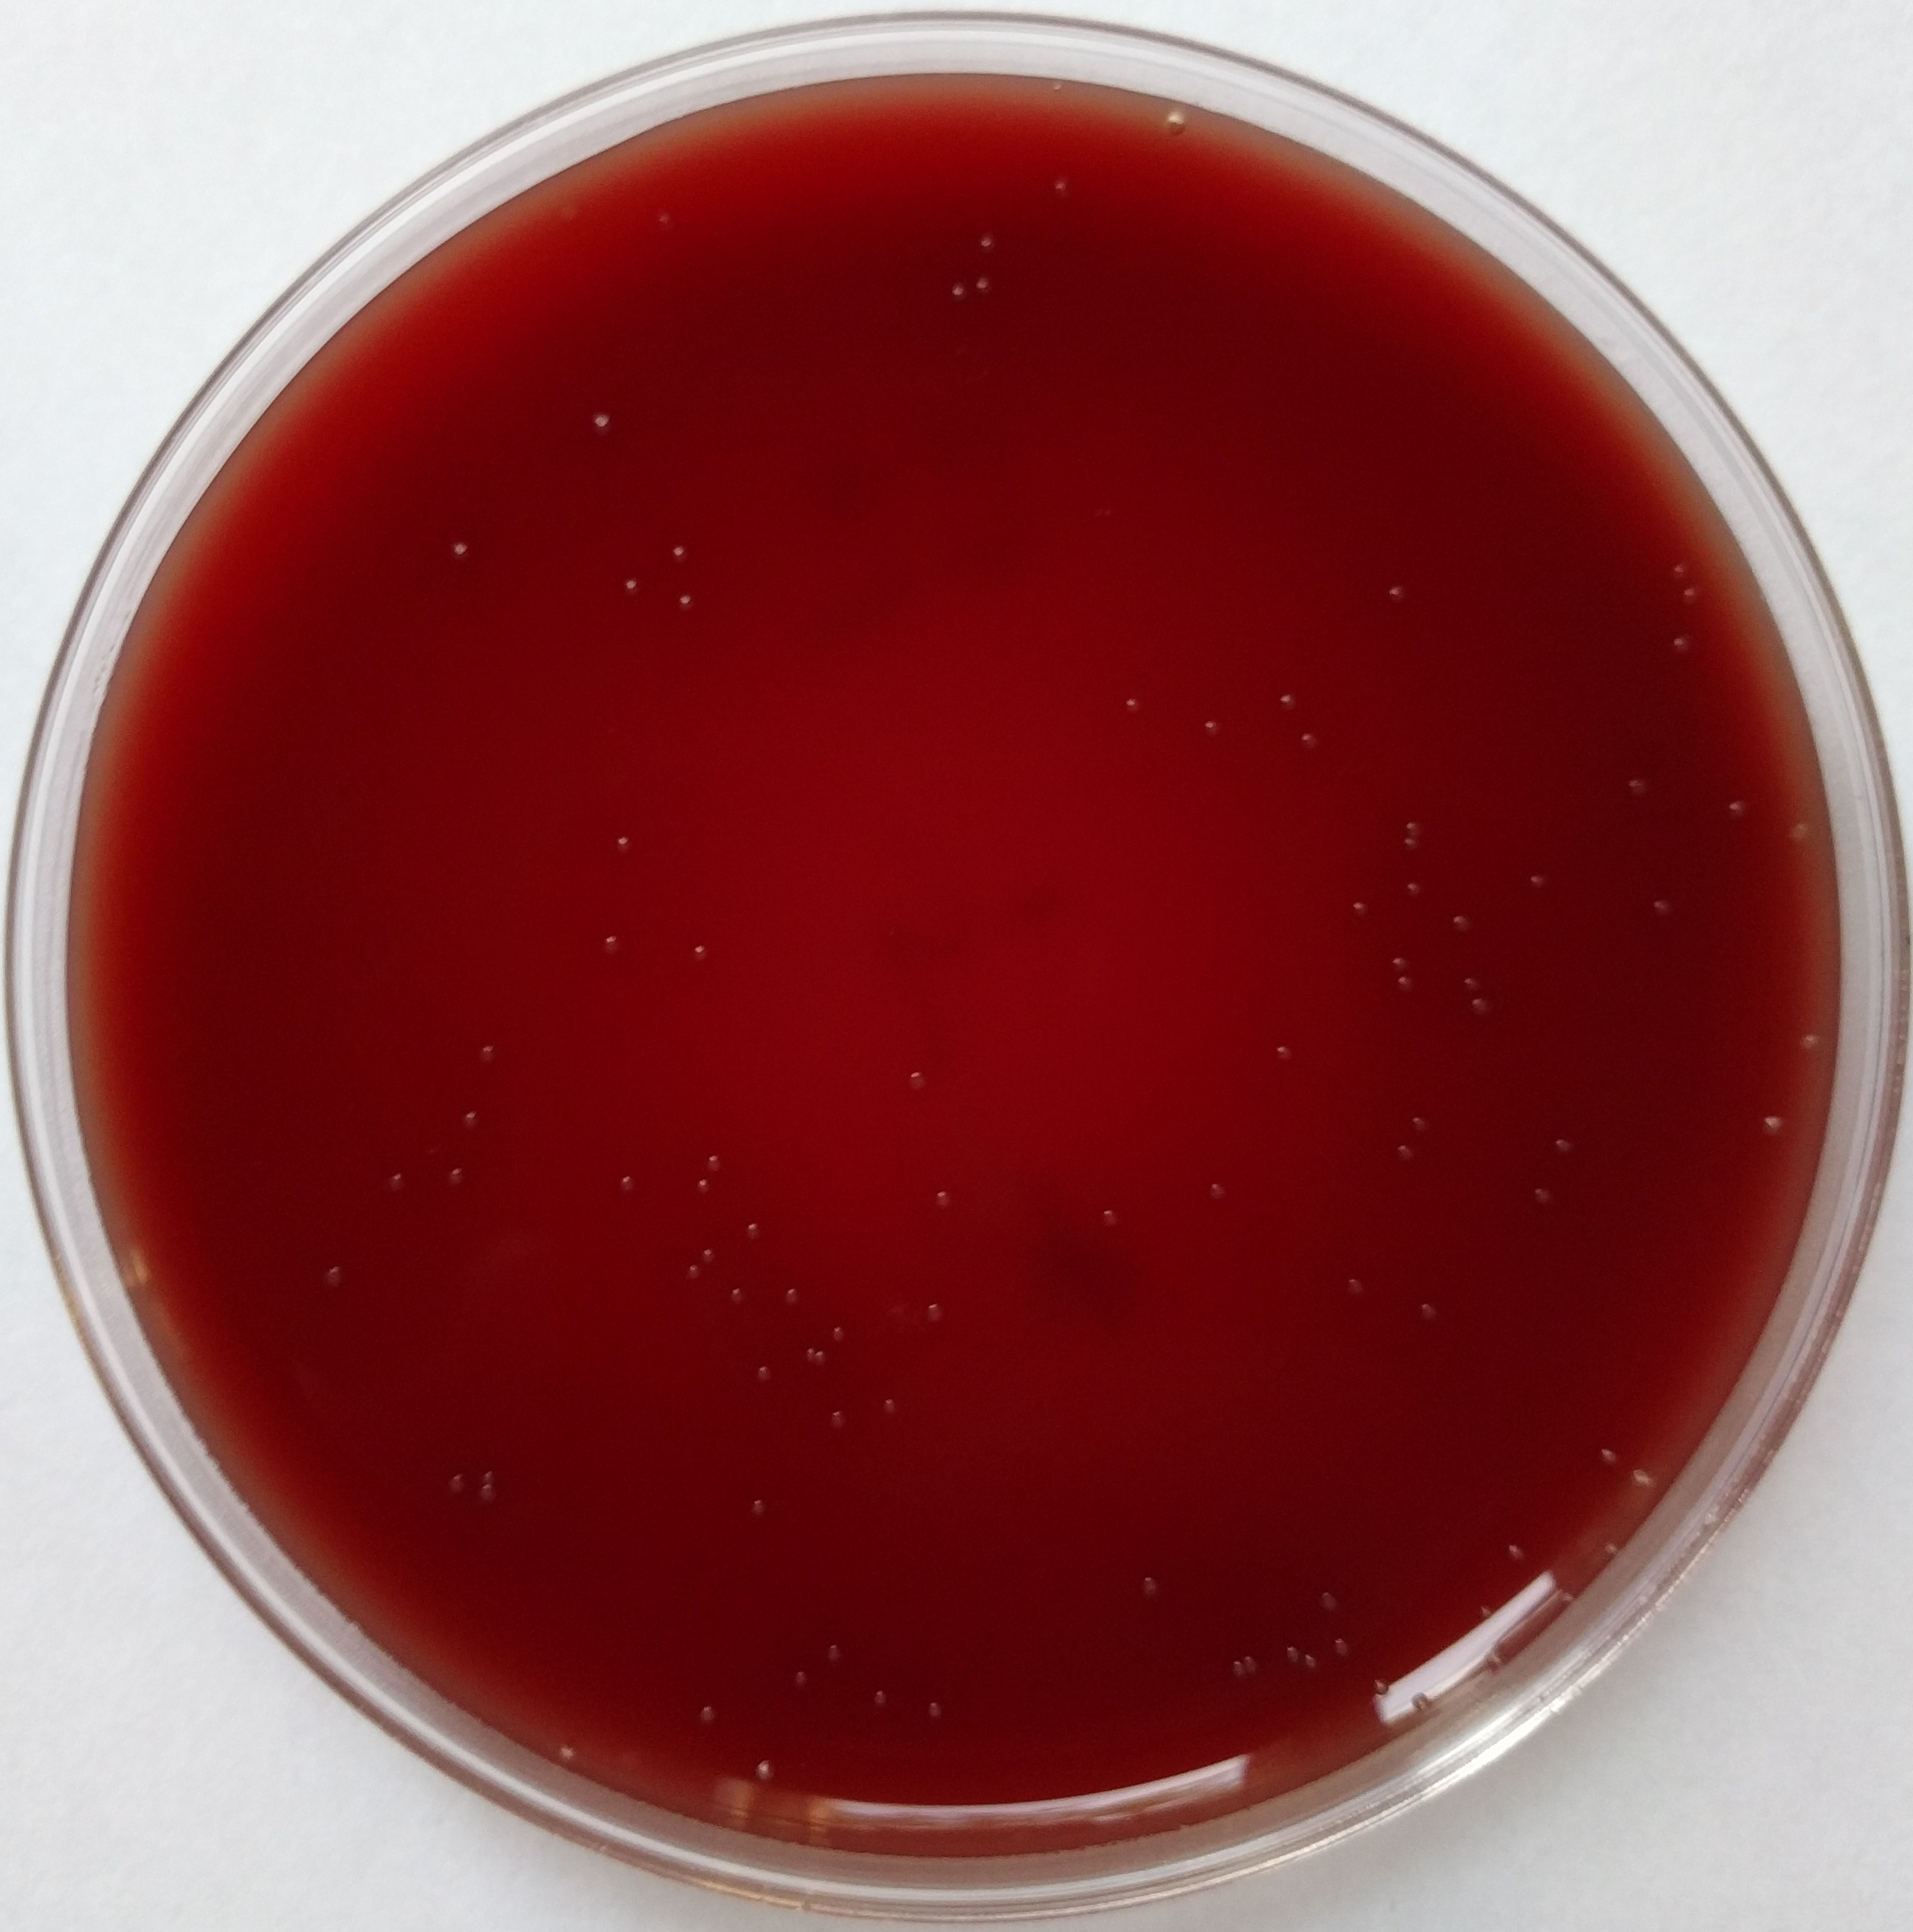sp07: (1664, 622, 1705, 657), (964, 221, 1000, 257), (1361, 1675, 1403, 1706), (604, 823, 643, 857), (1128, 1569, 1167, 1601), (1046, 166, 1081, 200), (443, 531, 478, 564), (1116, 685, 1149, 720), (585, 403, 620, 436), (899, 1063, 937, 1093), (1657, 555, 1698, 583), (785, 1338, 815, 1375), (1204, 1175, 1237, 1207), (317, 1258, 349, 1291), (664, 531, 699, 561), (816, 1634, 851, 1664), (1093, 1200, 1125, 1231), (443, 1468, 476, 1498), (1197, 708, 1228, 737), (1382, 575, 1412, 606), (469, 1033, 501, 1063), (683, 935, 715, 965), (946, 271, 978, 301), (964, 263, 995, 293), (1400, 807, 1429, 839), (476, 1487, 510, 1515), (1226, 1645, 1256, 1675), (594, 928, 625, 956), (1160, 107, 1191, 135), (920, 1696, 951, 1724), (648, 205, 676, 235), (1393, 836, 1422, 864), (1475, 1599, 1507, 1625), (745, 1492, 778, 1517), (555, 1732, 583, 1760), (927, 1181, 956, 1207), (1268, 1037, 1298, 1063), (615, 571, 641, 601), (1755, 1107, 1785, 1133), (1274, 1636, 1300, 1666), (1440, 911, 1472, 935), (1505, 1534, 1531, 1562), (748, 1356, 778, 1380), (692, 1699, 722, 1724), (1391, 876, 1421, 900), (1342, 1268, 1368, 1294), (1790, 1025, 1818, 1049), (1599, 1438, 1624, 1466), (874, 1389, 902, 1414), (615, 1167, 639, 1195), (1274, 687, 1302, 711), (783, 1280, 811, 1305), (1316, 1585, 1340, 1613), (1300, 1650, 1328, 1675), (673, 587, 697, 615), (1624, 771, 1654, 793), (1782, 813, 1811, 836), (701, 1238, 725, 1265), (829, 1403, 857, 1426), (1680, 583, 1708, 606), (752, 1755, 780, 1778), (818, 1321, 843, 1345), (1330, 1632, 1354, 1657), (1415, 1296, 1442, 1319), (871, 1685, 897, 1708), (1528, 1181, 1554, 1203), (787, 1662, 813, 1685), (1724, 793, 1752, 814), (741, 1216, 769, 1237), (475, 1466, 503, 1487), (457, 1102, 482, 1125), (921, 1294, 946, 1317), (731, 1284, 755, 1307), (1528, 867, 1552, 888), (688, 1177, 713, 1198), (1550, 1130, 1577, 1149), (1347, 893, 1368, 916), (1394, 974, 1415, 997), (685, 1258, 706, 1280), (1403, 1119, 1424, 1142), (815, 1350, 837, 1371), (704, 1154, 729, 1174), (1647, 895, 1673, 913), (1295, 723, 1316, 744), (1391, 955, 1414, 974), (1472, 998, 1496, 1016), (392, 1168, 412, 1189), (1461, 974, 1482, 993), (438, 1167, 459, 1186), (1393, 1146, 1412, 1165)
